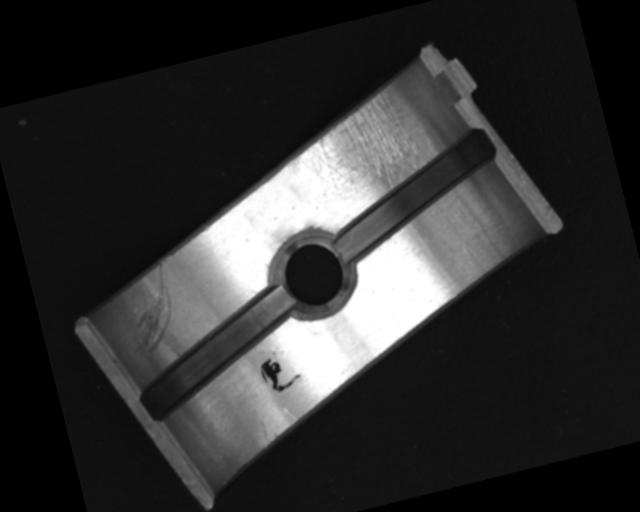blot: (257, 350, 305, 397)
gap: (315, 122, 518, 263), (119, 282, 315, 426)
hole: (266, 228, 360, 324)
nick: (117, 261, 184, 361)
scratch: (282, 83, 424, 208)
